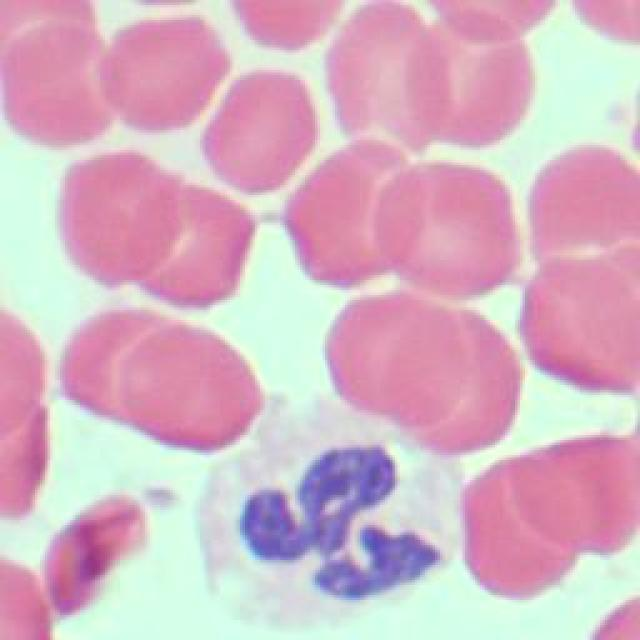RBC: (286, 140, 422, 288), (330, 2, 450, 168), (380, 159, 518, 296), (396, 308, 524, 454), (60, 151, 185, 289), (459, 459, 581, 599), (124, 326, 258, 452), (527, 147, 640, 292), (324, 295, 458, 417), (410, 15, 535, 140), (512, 433, 640, 555), (106, 14, 232, 134), (528, 266, 638, 402), (60, 316, 192, 426), (0, 28, 122, 146), (136, 191, 254, 311), (205, 68, 317, 194), (44, 494, 146, 616), (565, 252, 640, 370), (0, 0, 102, 82), (230, 0, 340, 55), (435, 0, 560, 45), (0, 404, 50, 516), (0, 310, 45, 428), (0, 562, 52, 639), (570, 0, 640, 45), (592, 597, 639, 640)
WBC: (203, 406, 465, 632)
